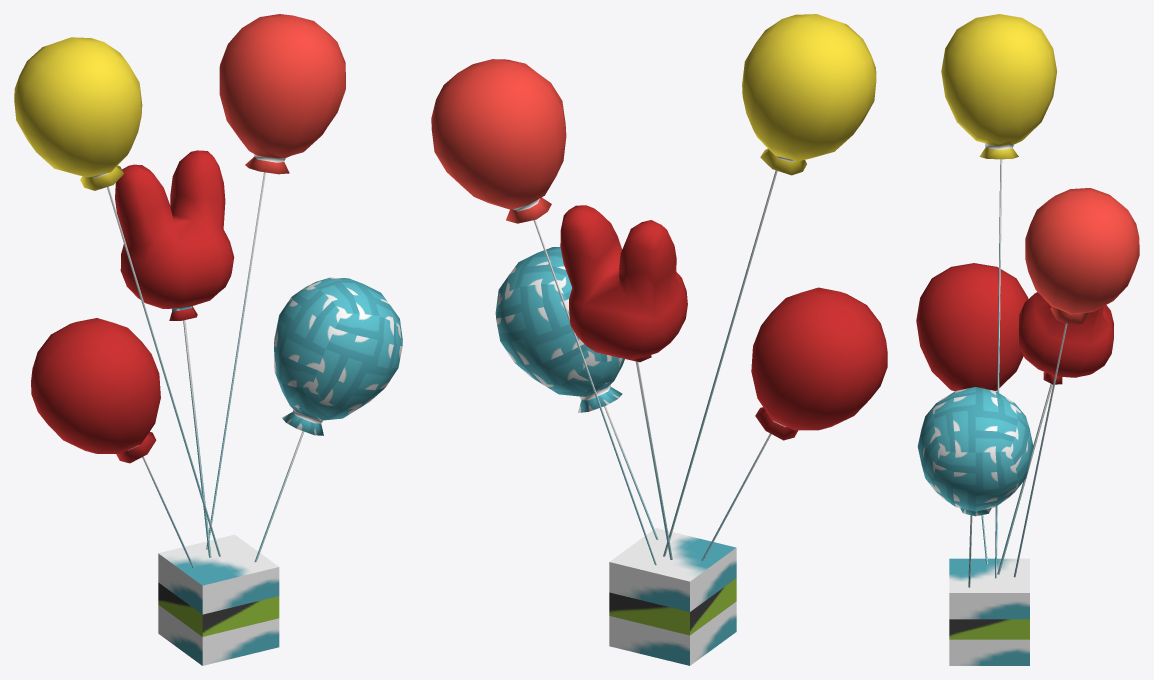
Rendered from ColorFlags02.FBX.
3 renders of one model, left to right at view 1: azimuth 30°, elevation 25°; view 2: azimuth 150°, elevation 25°; view 3: azimuth 270°, elevation 25°, orthographic. The views are drawn at different scales.
Visible parts, largest first — view 1: ColorFlags02; view 2: ColorFlags02; view 3: ColorFlags02.
Boxes of the visible parts, <box> form: ColorFlags02: <box>14,14,402,665</box>; ColorFlags02: <box>431,14,887,665</box>; ColorFlags02: <box>916,14,1139,665</box>.
Size of the model in its own units: 306 by 506 by 180.
